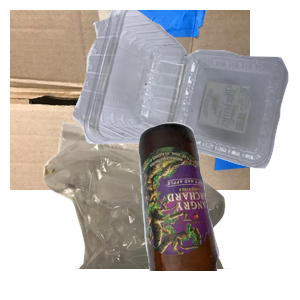cardboard: (10, 10, 250, 190)
glass: (136, 120, 300, 300)
plastic: (70, 10, 300, 171)
trash: (41, 120, 276, 300)
